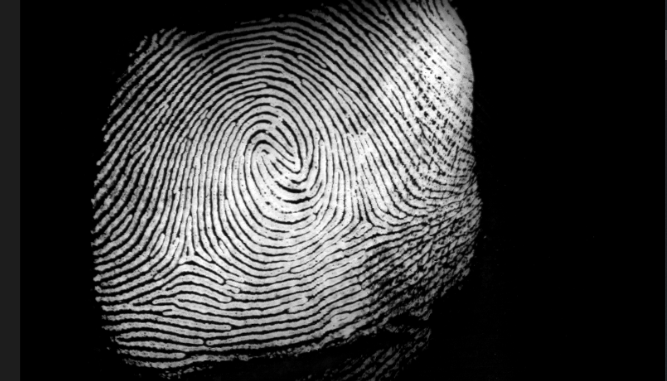deltas: (150, 230, 229, 288), (337, 192, 395, 243)
nucleo: (246, 112, 311, 178)
